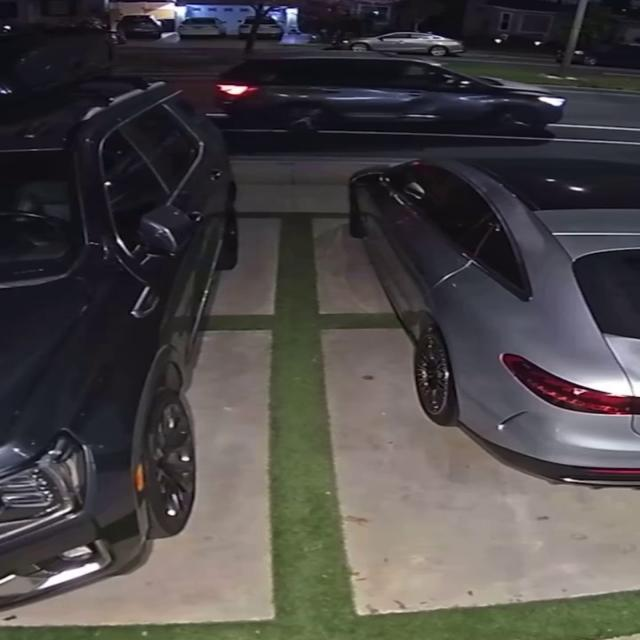Theft - Alert: (215, 52, 565, 130)
